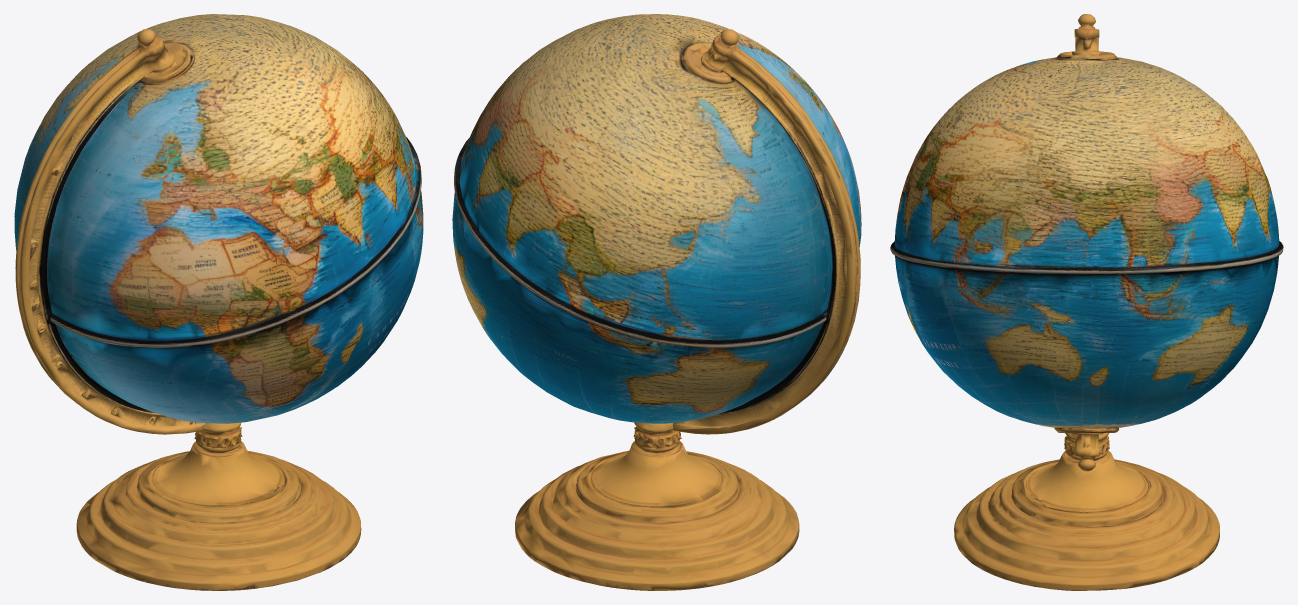
Rendered from globe.glb.
The picture shows the model from 3 angles, left to right: view 1: azimuth 30°, elevation 25°; view 2: azimuth 150°, elevation 25°; view 3: azimuth 270°, elevation 25°; orthographic projection. The views are drawn at different scales.
Parts seen in each view (by area): view 1: node_0; view 2: node_0; view 3: node_0.
Part boxes in pixels (left/top/right/bottom): node_0: left=14, top=14, right=423, bottom=590; node_0: left=452, top=14, right=861, bottom=590; node_0: left=890, top=14, right=1283, bottom=590.
Size of the model in its own units: 0.8033 by 1.05 by 0.771.
1 material, 1 textured.
